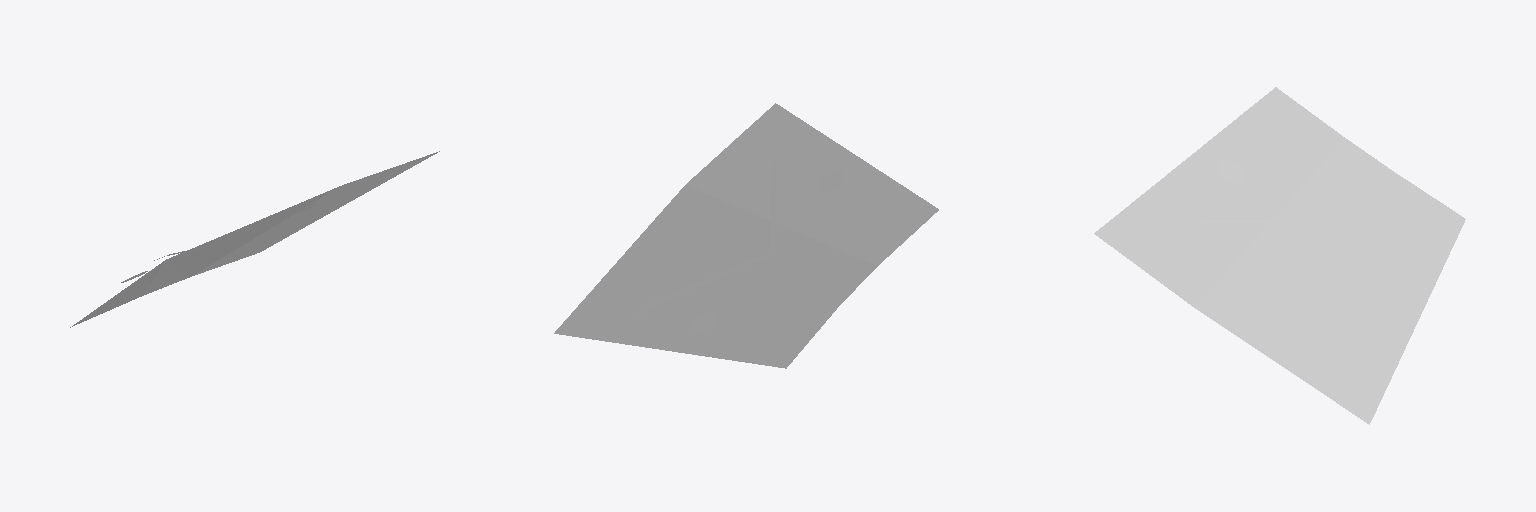
Rendered from origin_2_light.obj.
The picture shows the model from 3 angles: view 1: azimuth 90°, elevation 25°; view 2: azimuth 150°, elevation 25°; view 3: azimuth 270°, elevation 25°; orthographic projection.
Visible parts, largest first — view 1: 4_DHD_symbols_outer_Cylinder; view 2: 4_DHD_symbols_outer_Cylinder; view 3: 4_DHD_symbols_outer_Cylinder.
Part boxes in pixels (x1,y1,x2,y2): 4_DHD_symbols_outer_Cylinder: (70,151,439,327); 4_DHD_symbols_outer_Cylinder: (554,103,938,368); 4_DHD_symbols_outer_Cylinder: (1094,87,1465,424).
Size of the model in its own units: 0.1955 by 0.095 by 0.1858.